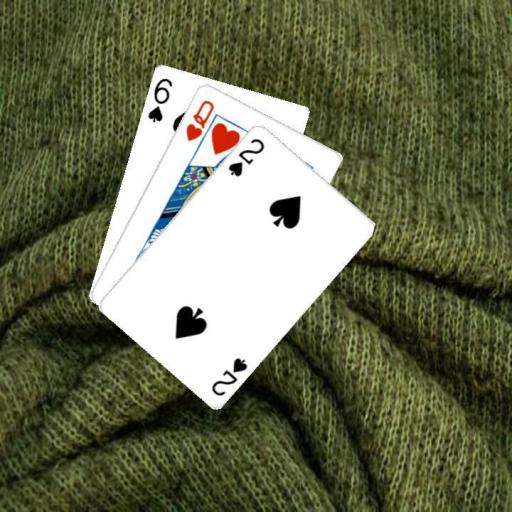2S: (225, 134, 266, 178), (208, 354, 249, 398)
6S: (145, 75, 174, 124)
QH: (182, 96, 216, 142)
